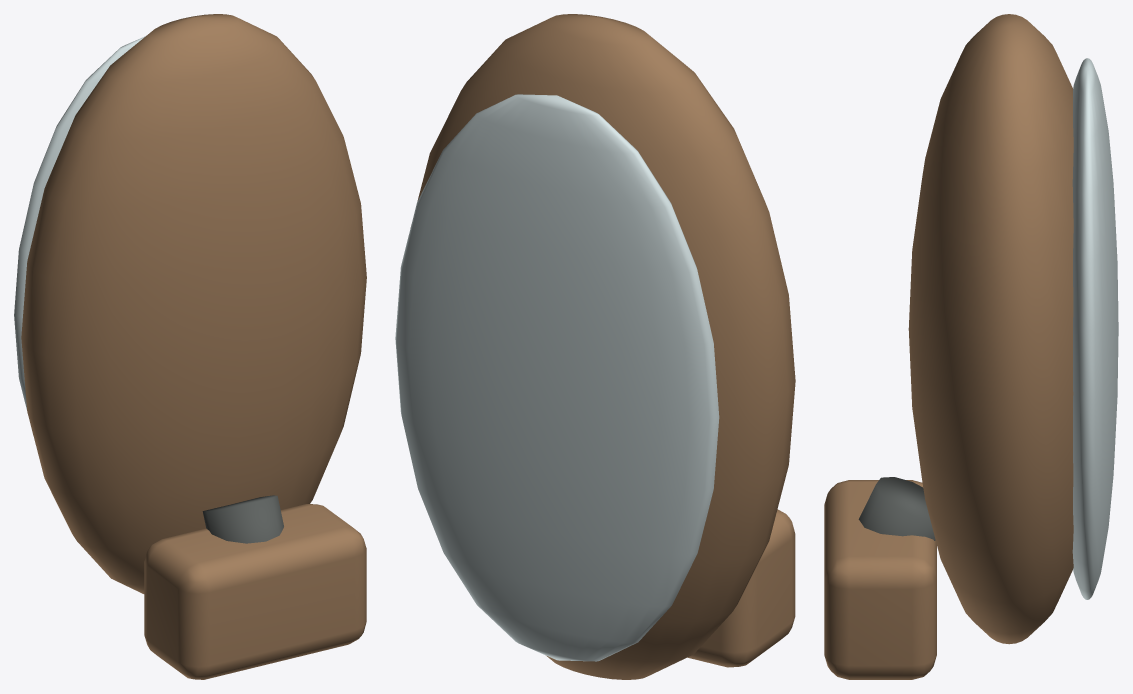
File: espelho-de-mesa-lua.glb
3 renders of one model, left to right at view 1: azimuth 30°, elevation 25°; view 2: azimuth 150°, elevation 25°; view 3: azimuth 270°, elevation 25°, orthographic. The views are drawn at different scales.
Parts seen in each view (by area): view 1: Moldura oval do espelho, Base do espelho, Superfície espelhada, Suporte do espelho; view 2: Superfície espelhada, Moldura oval do espelho, Base do espelho; view 3: Moldura oval do espelho, Superfície espelhada, Base do espelho, Suporte do espelho.
Part boxes in pixels (x1,y1,x2,y2): Moldura oval do espelho: (21,14,366,593); Base do espelho: (144,504,366,679); Superfície espelhada: (14,36,145,409); Suporte do espelho: (202,495,283,543); Superfície espelhada: (395,94,719,661); Moldura oval do espelho: (417,14,795,679); Base do espelho: (687,509,795,667); Moldura oval do espelho: (908,14,1073,644); Superfície espelhada: (1072,58,1118,599); Base do espelho: (824,480,936,679); Suporte do espelho: (858,477,935,540).
Size of the model in its own units: 0.18 by 0.304 by 0.1318.
